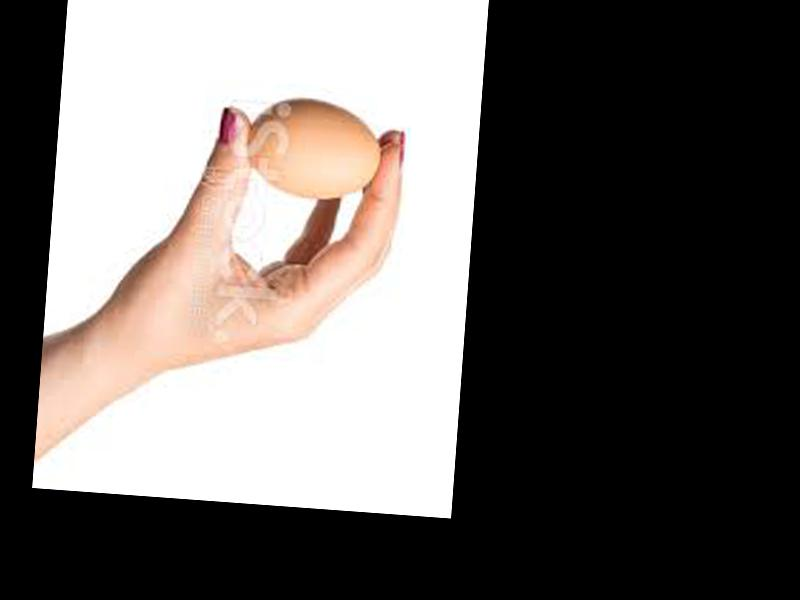Eggs: (243, 98, 383, 201)
